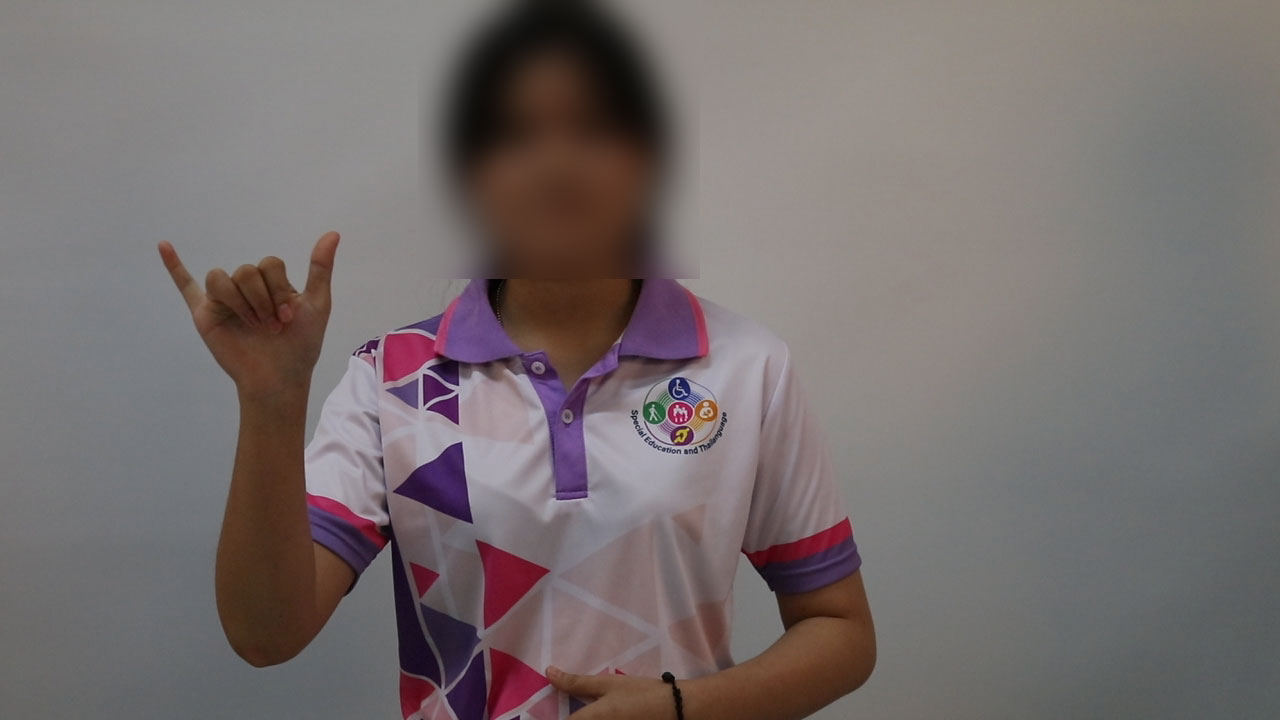yor: (138, 221, 376, 399)
